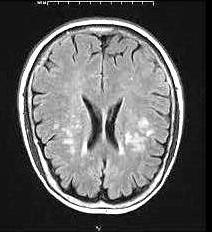Normal_Brain: (2, 1, 212, 232)
